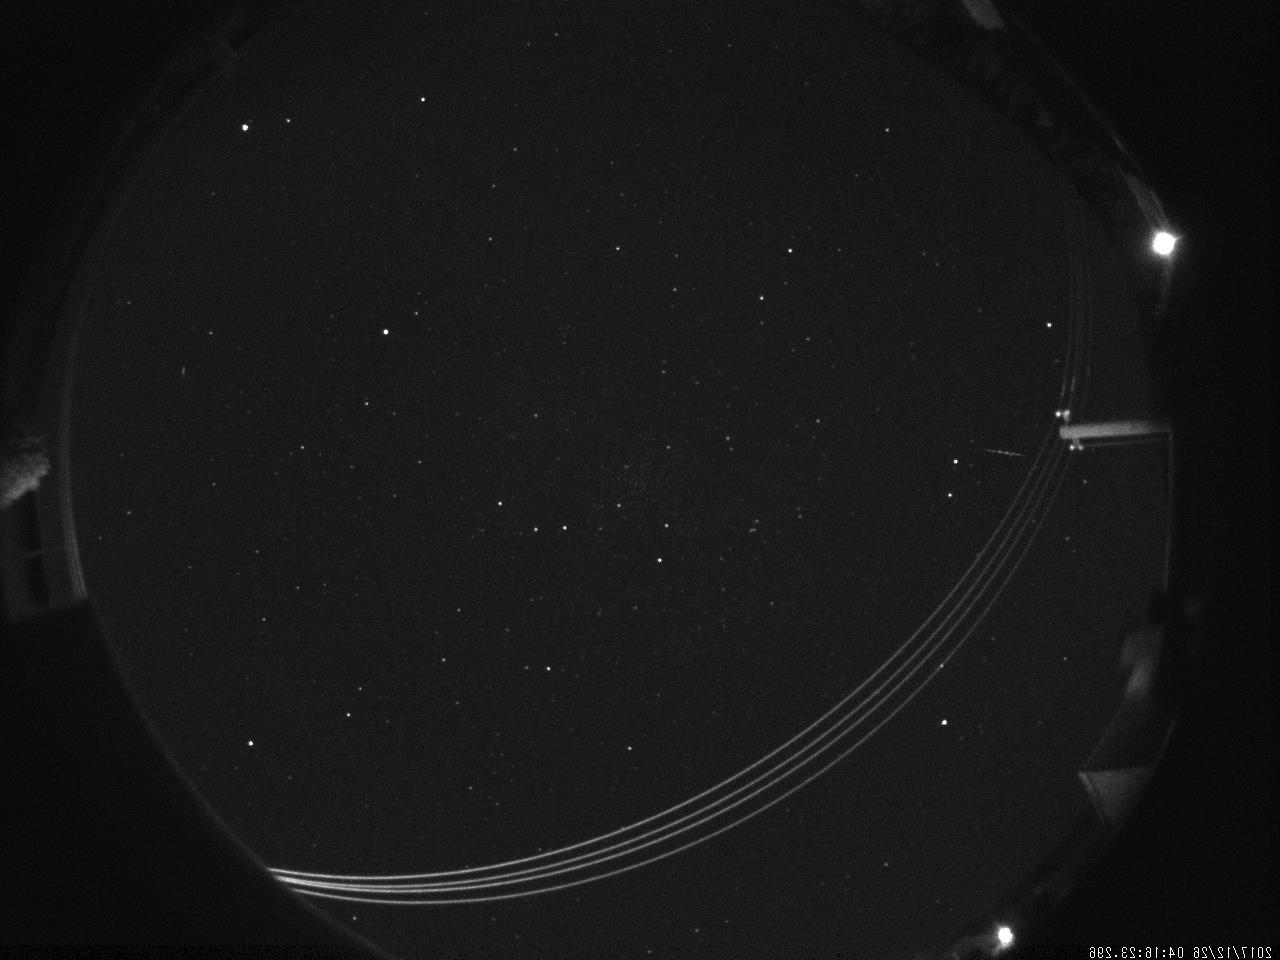meteor: (984, 445, 1028, 467)
